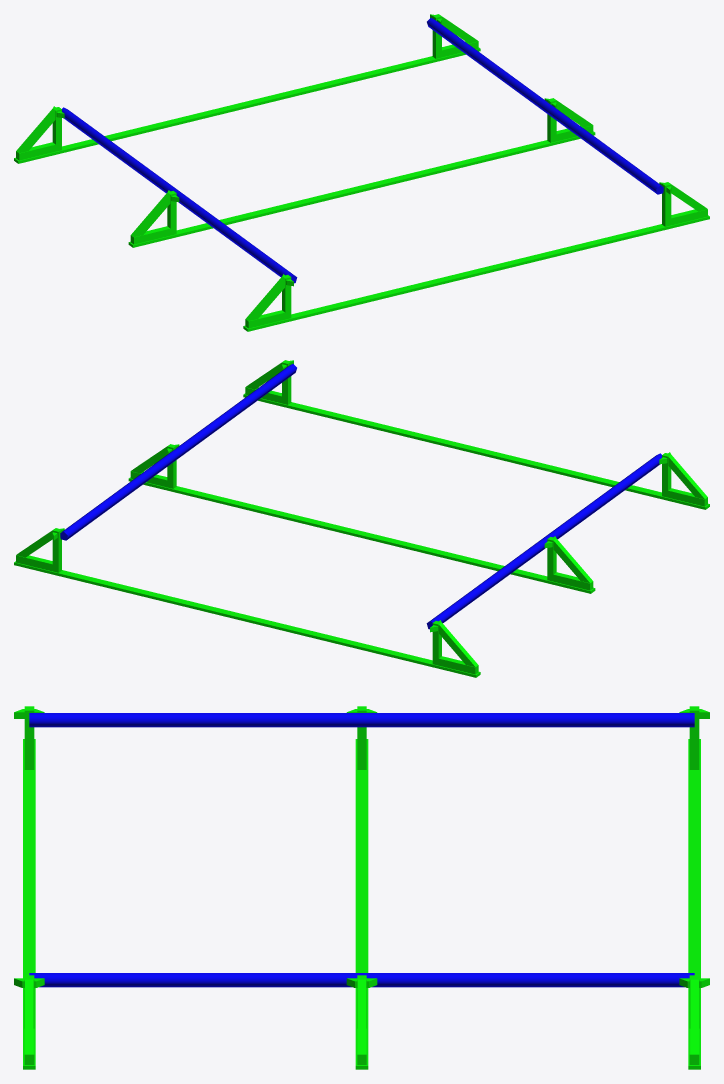
The model's file is track_mockup.fbx.
3 renders of one model, top to bottom at view 1: azimuth 30°, elevation 25°; view 2: azimuth 150°, elevation 25°; view 3: azimuth 270°, elevation 25°, orthographic. The views are drawn at different scales.
Visible parts, largest first — view 1: track_mockup; view 2: track_mockup; view 3: track_mockup.
Part boxes in pixels (left/top/right/bottom): track_mockup: left=14, top=14, right=709, bottom=331; track_mockup: left=14, top=360, right=709, bottom=677; track_mockup: left=14, top=706, right=709, bottom=1069.
Size of the model in its own units: 1.16 by 0.1048 by 1.05.
